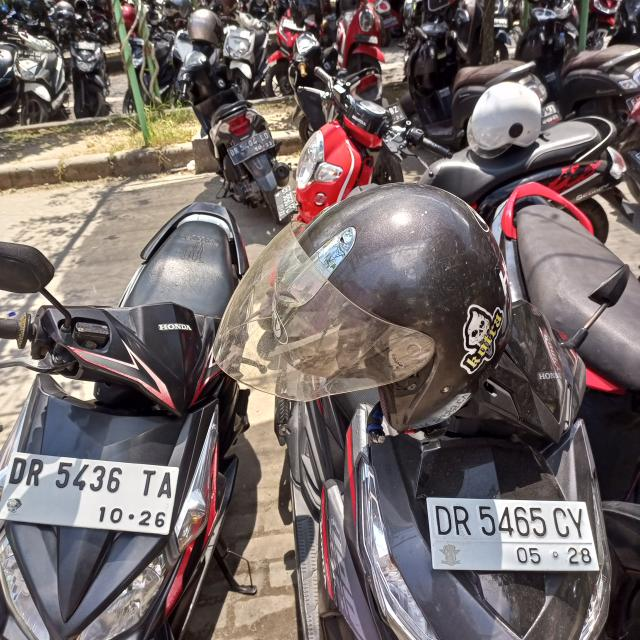plate: (2, 450, 177, 530), (424, 497, 602, 573), (227, 129, 276, 164)
